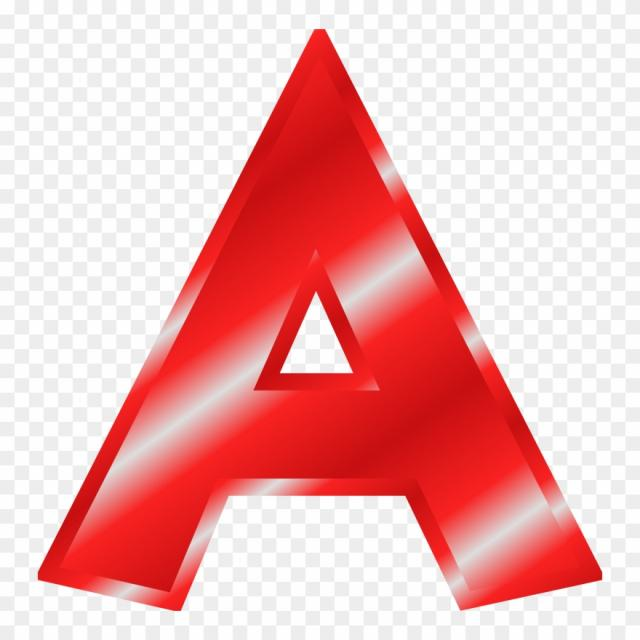A: (22, 11, 614, 626)
